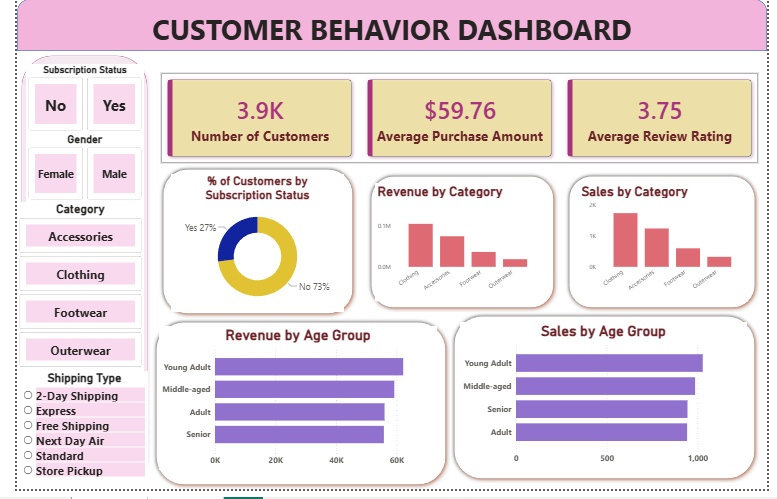

Layout of this report page (visuals, bound fields, positions):
{"tool":"powerbi","page":{"name":"Page 1","canvas":[1500,980],"ordinal":0},"visuals":[{"type":"cardVisual","fields":{"Data":["public customer.Number of Customers","public customer.Average Purchase Amount","public customer.Average Review Rating"]},"box":[270,130,1230,216.7],"z":0},{"type":"shape","box":[0,0,1500,104],"z":1000},{"type":"textbox","box":[0,16.7,1500,88.3],"z":2000},{"type":"shape","box":[284,332,396,306],"z":3000},{"type":"donutChart","title":"% of Customers by Subscription Status","fields":{"Category":["public customer.subscription_status"],"Y":["public customer.Number of Customers"]},"box":[308,350,346,276],"z":4000},{"type":"shape","box":[700,346.7,381.7,280],"z":5000},{"type":"shape","box":[1096.7,346.7,388.3,280],"z":6000},{"type":"clusteredColumnChart","title":" Revenue by Category","fields":{"Category":["public customer.category"],"Y":["Sum(public customer.purchase_amount)"]},"box":[716.7,368.3,336.7,236.7],"z":7000},{"type":"clusteredColumnChart","title":"Sales by Category","fields":{"Category":["public customer.category"],"Y":["CountNonNull(public customer.customer_id)"]},"box":[1123.3,368.3,336.7,236.7],"z":8000},{"type":"shape","box":[0,104,270,876],"z":9000},{"type":"advancedSlicerVisual","title":"Subscription Status","fields":{"Values":["public customer.subscription_status"]},"box":[18,130,236,138],"z":10000},{"type":"advancedSlicerVisual","title":"Gender","fields":{"Values":["public customer.gender"]},"box":[18,268,236,138],"z":11000},{"type":"listSlicer","title":"Shipping Type","fields":{"Values":["public customer.shipping_type"]},"box":[8,744,254,236],"z":12000},{"type":"advancedSlicerVisual","title":"Category","fields":{"Values":["public customer.category"]},"box":[0,406,254,338],"z":13000},{"type":"shape","box":[270,638,596,342],"z":14000},{"type":"clusteredBarChart","title":"Revenue by Age Group","fields":{"Y":["Sum(public customer.purchase_amount)"],"Category":["public customer.age_group"]},"box":[284,654,556,288],"z":15000},{"type":"shape","box":[866,626,618,342],"z":16000},{"type":"clusteredBarChart","title":"Sales by Age Group","fields":{"Category":["public customer.age_group"],"Y":["CountNonNull(public customer.customer_id)"]},"box":[886,646,574,292],"z":17000}]}

Visuals, with their boxes in screenshot pixels (x1, y1, x2, y2), scaled from the page's 1500x980 canvas onto the 777x499 screenshot:
cardVisual - public customer.Number of Customers x public customer.Average Purchase Amount: left=140, top=66, right=776, bottom=177
shape: left=0, top=0, right=776, bottom=53
textbox: left=0, top=9, right=776, bottom=53
shape: left=147, top=169, right=352, bottom=325
"% of Customers by Subscription Status" donutChart: left=160, top=178, right=339, bottom=319
shape: left=363, top=177, right=560, bottom=319
shape: left=568, top=177, right=769, bottom=319
" Revenue by Category" clusteredColumnChart: left=371, top=188, right=546, bottom=308
"Sales by Category" clusteredColumnChart: left=582, top=188, right=756, bottom=308
shape: left=0, top=53, right=140, bottom=498
"Subscription Status" advancedSlicerVisual: left=9, top=66, right=132, bottom=136
"Gender" advancedSlicerVisual: left=9, top=136, right=132, bottom=207
"Shipping Type" listSlicer: left=4, top=379, right=136, bottom=498
"Category" advancedSlicerVisual: left=0, top=207, right=132, bottom=379
shape: left=140, top=325, right=449, bottom=498
"Revenue by Age Group" clusteredBarChart: left=147, top=333, right=435, bottom=480
shape: left=449, top=319, right=769, bottom=493
"Sales by Age Group" clusteredBarChart: left=459, top=329, right=756, bottom=478
